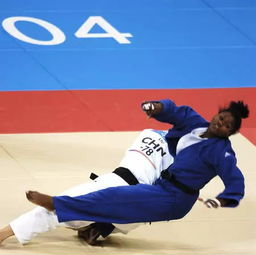fall: (4, 87, 246, 253)
